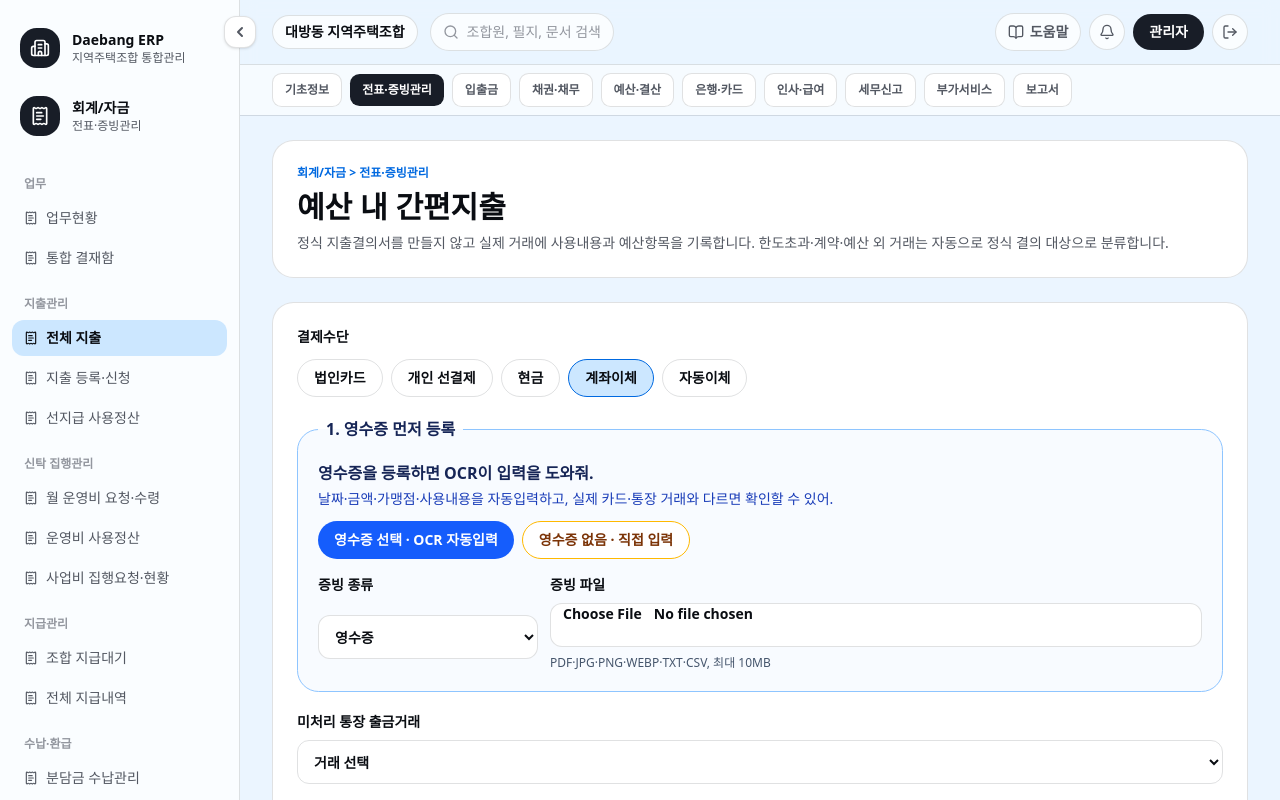
QuickExpensePage › supports manual cash usage records
The image size is (1280, 800).
Click the button "현금" at (530, 378), box left=501, top=359, right=560, bottom=397
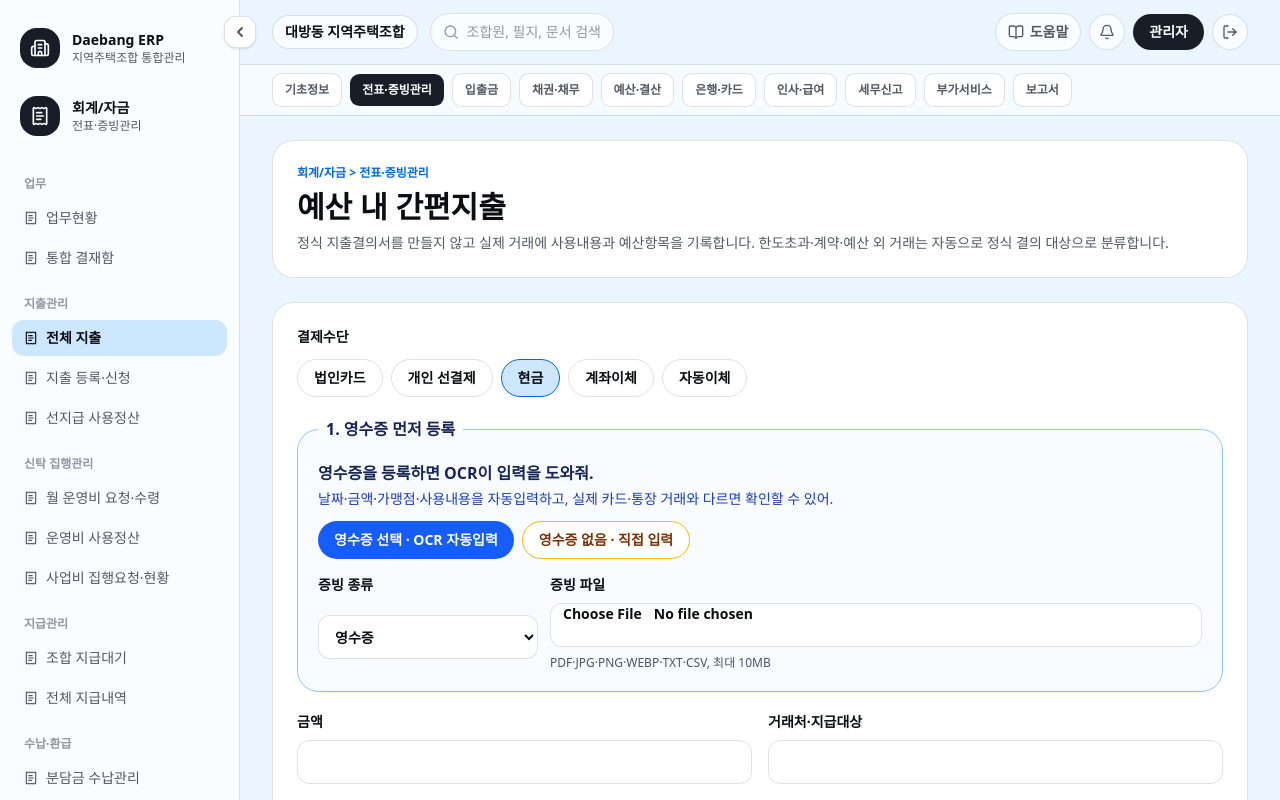
Now the field labelled "금액" is shown, box left=297, top=740, right=752, bottom=784
Now the field labelled "거래처·지급대상" is shown, box left=768, top=740, right=1223, bottom=784
